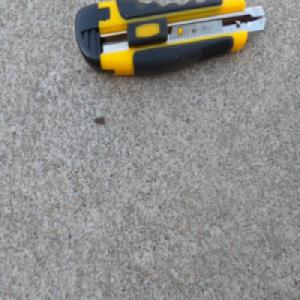Cutter: (74, 0, 266, 79)
